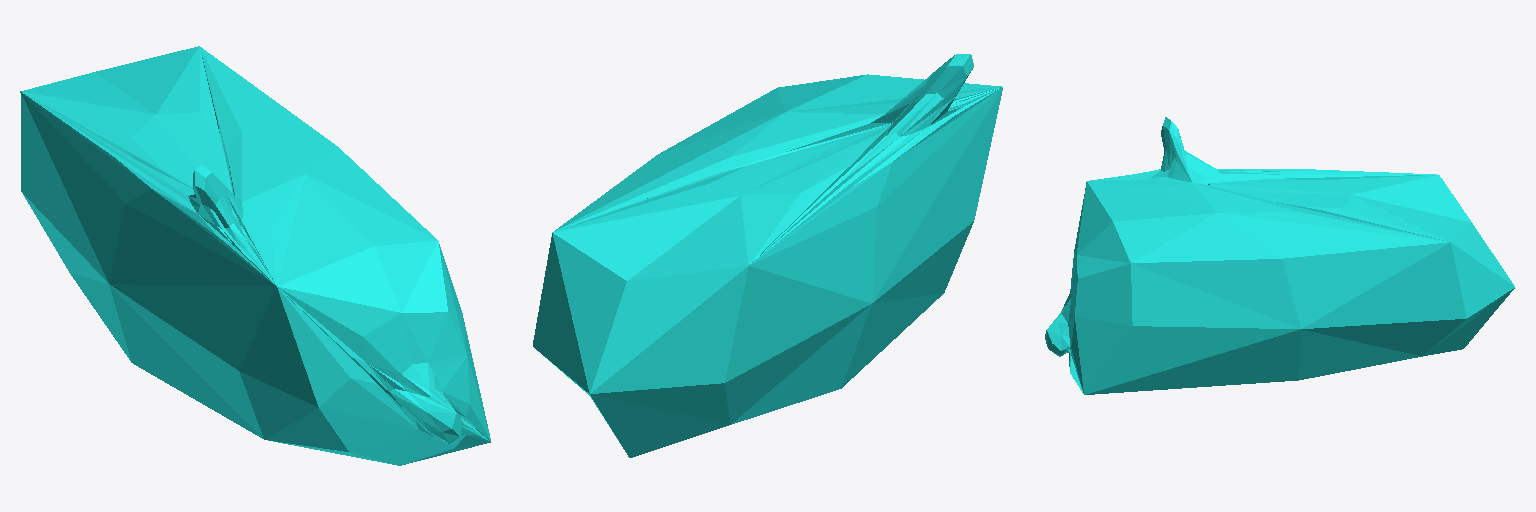
robot.urdf — blob049:

<robot name="blob049">
  <link name="random_obj_049">
    <contact>
      <lateral_friction value="1.0"/>
      <rolling_friction value="0.0"/>
      <inertia_scaling value="3.0"/>
      <contact_cfm value="0.0"/>
      <contact_erp value="1.0"/>
    </contact>
    <inertial>
      <origin rpy="0 0 0" xyz="0 0 0"/>
      <mass value="0.0953"/>
      <inertia ixx="1" ixy="0" ixz="0" iyy="1" iyz="0" izz="0"/>
    </inertial>
    <visual>
      <origin rpy="0 0 0" xyz="0 0 0"/>
      <geometry>
        <mesh filename="049.obj" scale="0.0063 0.0063 0.0063"/>
      </geometry>
      <material name="blockmat">
        <color rgba="0.20 0.95 0.93 1"/>
      </material>
    </visual>
    <collision>
      <origin rpy="0 0 0" xyz="0 0 0"/>
      <geometry>
        <mesh filename="049_coll.obj" scale="0.0063 0.0063 0.0063"/>
      </geometry>
    </collision>
  </link>
</robot>

--- Facts derived from the render (not from the file) ---
Views: 3 orthographic renders of the robot side by side, from view 1: azimuth 30°, elevation 25°; view 2: azimuth 150°, elevation 25°; view 3: azimuth 270°, elevation 25°.
Model blob049 with 1 links and 0 joints (none), rooted at random_obj_049, posed every joint at zero.
Visible links, largest first — view 1: random_obj_049; view 2: random_obj_049; view 3: random_obj_049.
Boxes of the visible links, x1,y1,x2,y2 form: random_obj_049: (20, 46, 490, 465); random_obj_049: (533, 54, 1002, 457); random_obj_049: (1045, 117, 1514, 394).
Size in the robot's own frame: 0.0351 by 0.0815 by 0.04 metres.
1 mesh visuals loaded from 1 distinct referenced files (1 OBJ).
